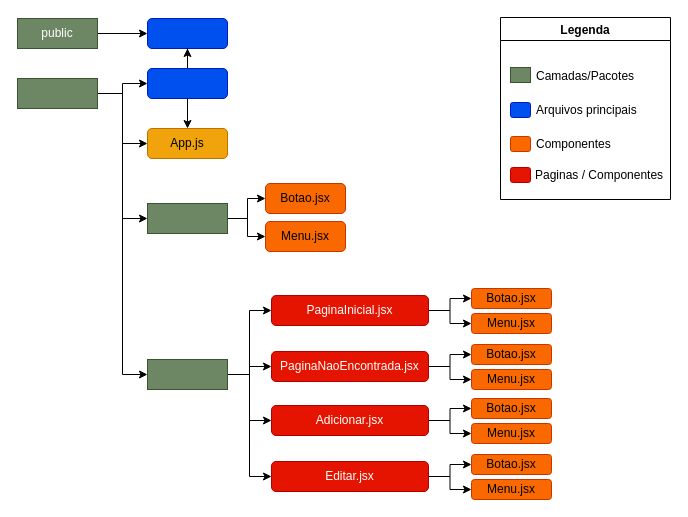
Some shapes in this 688 by 517 pixel diagram are drawn without their labels. The shapes that lost their labels are listed below. From the top down, each one's centre as x and y in pixels, then its label:
At point 187,33: "index.html".
At point 57,93: "src".
At point 187,83: "index.js".
At point 187,218: "components".
At point 187,374: "pages".
